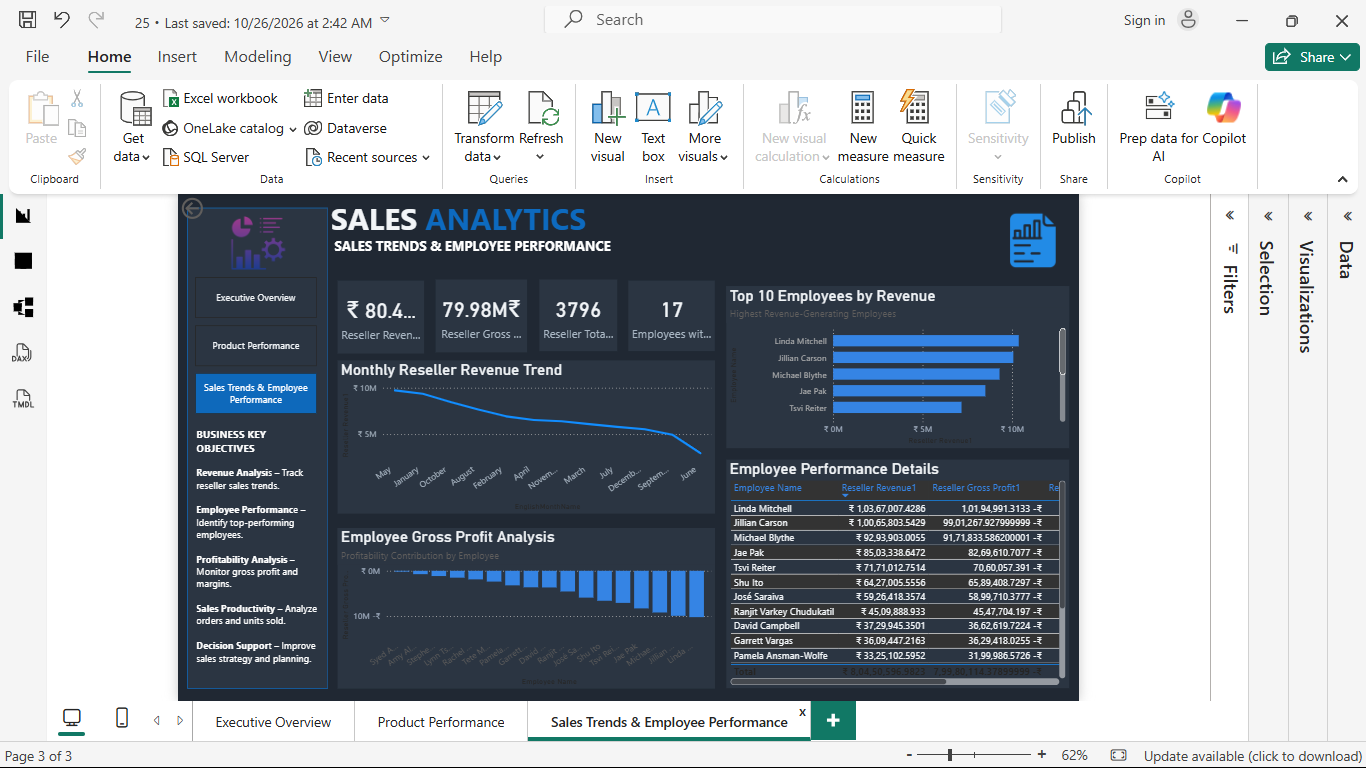

This screenshot's page, from the dashboard's own definition file:
{"tool":"powerbi","page":{"name":"Sales Trends & Employee Performance","canvas":[1280,720],"ordinal":2},"visuals":[{"type":"shape","box":[12.5,19.7,200.3,683.1],"z":0},{"type":"pageNavigator","box":[25,118,173.5,194.9],"z":1000},{"type":"image","box":[26.8,19.7,173.5,94.8],"z":2000},{"type":"image","box":[1164.5,8.8,100.1,115.9],"z":3000},{"type":"textbox","box":[212.5,0,426.8,121.2],"z":4000},{"type":"card","fields":{"Values":["FactResellerSales.Reseller Revenue1"]},"box":[226.2,123,123,103.2],"z":5000},{"type":"card","fields":{"Values":["DimCustomer.Gross Profit"]},"box":[365.3,121.2,130,103.6],"z":6000},{"type":"card","fields":{"Values":["DimCustomer.Reseller Total Orders 1"]},"box":[512.9,121.2,110.7,101.9],"z":7000},{"type":"card","fields":{"Values":["DimCustomer.Employees with Sales 1"]},"box":[639.3,122.9,122.9,100.1],"z":8000},{"type":"lineChart","title":"Monthly Reseller Revenue Trend","fields":{"Category":["DimDate.EnglishMonthName"],"Y":["FactResellerSales.Reseller Revenue1"]},"box":[226.6,237.1,535.7,217.8],"z":9000},{"type":"clusteredBarChart","title":"Top 10 Employees by Revenue","fields":{"Category":["DimEmployee.Employee Name"],"Y":["FactResellerSales.Reseller Revenue1"]},"box":[777.7,120.7,486.1,241.4],"z":10000},{"type":"clusteredColumnChart","title":"Employee Gross Profit Analysis","fields":{"Y":["DimCustomer.Reseller Gross Profit1"],"Category":["DimEmployee.Employee Name"]},"box":[226.6,474.2,535.7,228.3],"z":11000},{"type":"tableEx","title":"Employee Performance Details","fields":{"Values":["DimEmployee.Employee Name","FactResellerSales.Reseller Revenue1","DimCustomer.Reseller Gross Profit1","DimCustomer.Reseller Total Orders 1","FactResellerSales.Reseller Units Sold","DimCustomer.Profit Margin %"]},"box":[778.1,377.6,486.5,324.9],"z":12000},{"type":"textbox","box":[21.1,324.9,186.2,377.6],"z":13000}]}

Visuals, with their boxes on the page's 1280x720 design canvas (x1, y1, x2, y2). These are canvas units, not pixel positions in the 1366x768 screenshot, which may show the page scaled, cropped or inside an application window:
shape: rect(12, 20, 213, 703)
pageNavigator: rect(25, 118, 198, 313)
image: rect(27, 20, 200, 114)
image: rect(1164, 9, 1265, 125)
textbox: rect(212, 0, 639, 121)
card - FactResellerSales.Reseller Revenue1: rect(226, 123, 349, 226)
card - DimCustomer.Gross Profit: rect(365, 121, 495, 225)
card - DimCustomer.Reseller Total Orders 1: rect(513, 121, 624, 223)
card - DimCustomer.Employees with Sales 1: rect(639, 123, 762, 223)
"Monthly Reseller Revenue Trend" lineChart: rect(227, 237, 762, 455)
"Top 10 Employees by Revenue" clusteredBarChart: rect(778, 121, 1264, 362)
"Employee Gross Profit Analysis" clusteredColumnChart: rect(227, 474, 762, 702)
"Employee Performance Details" tableEx: rect(778, 378, 1265, 702)
textbox: rect(21, 325, 207, 702)
